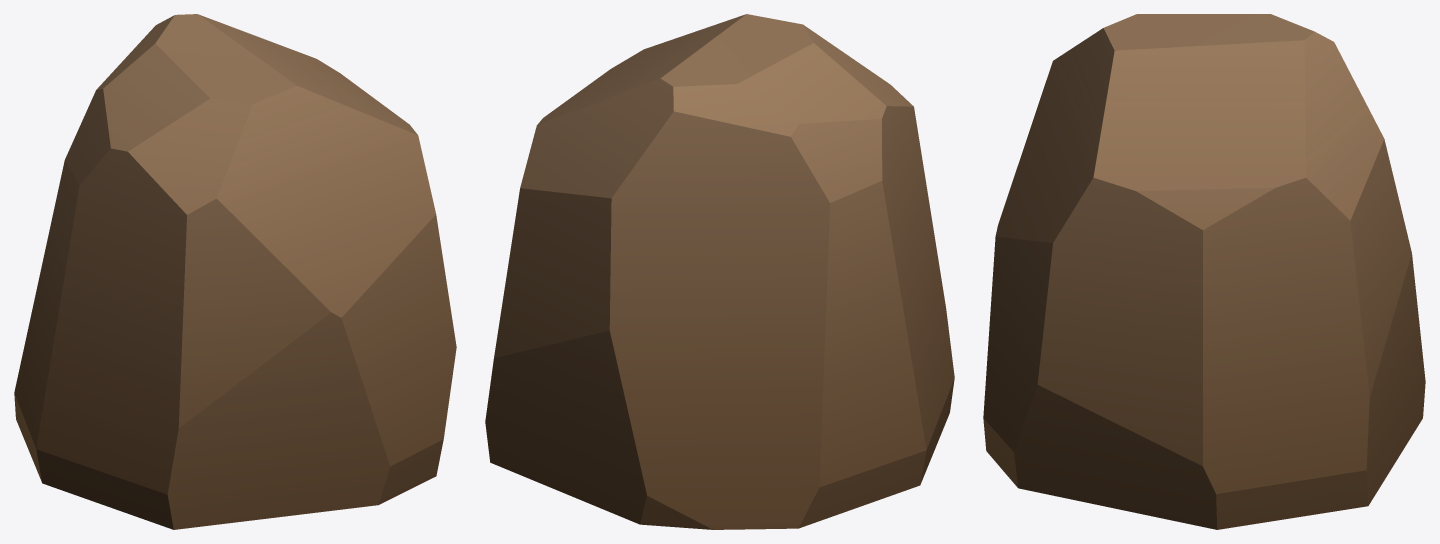
The model's file is Rock_04.fbx.
3 views of the same model, side by side, from view 1: azimuth 30°, elevation 25°; view 2: azimuth 150°, elevation 25°; view 3: azimuth 270°, elevation 25° (orthographic). The views are drawn at different scales.
Visible parts, largest first — view 1: Rock_04; view 2: Rock_04; view 3: Rock_04.
Boxes of the visible parts, x1,y1,x2,y2 form: Rock_04: (14,14,456,529); Rock_04: (485,14,954,529); Rock_04: (983,14,1425,529).
Size of the model in its own units: 140 by 129 by 130.
